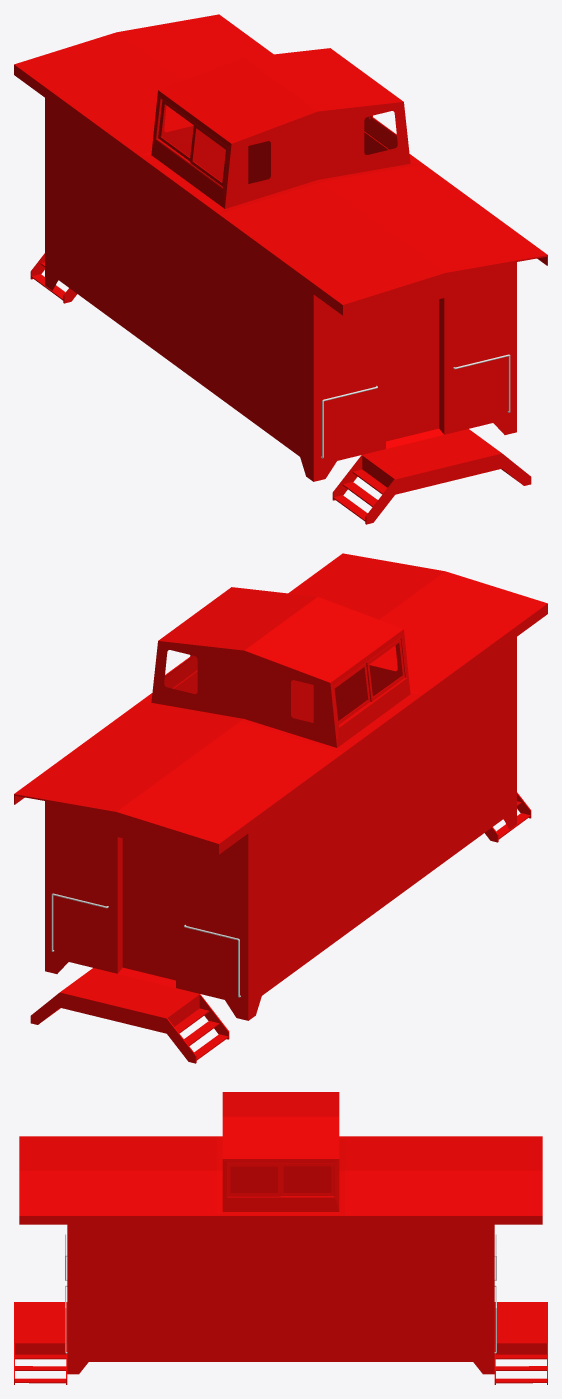
The model's file is Tren8.fbx.
3 views of the same model, one above another, from view 1: azimuth 30°, elevation 25°; view 2: azimuth 150°, elevation 25°; view 3: azimuth 270°, elevation 25° (orthographic). The views are drawn at different scales.
Visible parts, largest first — view 1: Cube; view 2: Cube; view 3: Cube, Circle.
Part boxes in pixels (x1,y1,x2,y2): Cube: [14, 14, 547, 524]; Cube: [14, 553, 547, 1063]; Cube: [14, 1092, 547, 1384]; Circle: [65, 1234, 496, 1353].
Bounding box in the file's own units: 706 × 977 × 2000.
